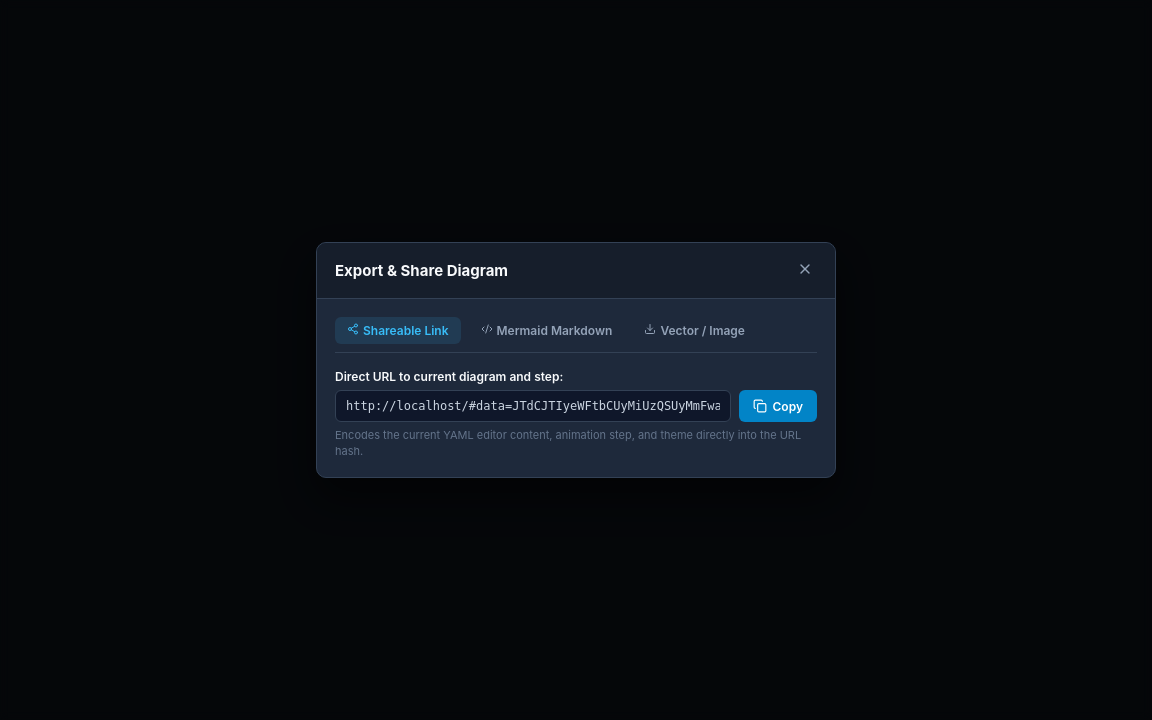
Test: ExportModal › switches to Mermaid tab and Vector tab with ARIA tablist standards
expect the element named "export formats" is shown: met, box [335,317,817,353]
expect the panel is shown: met, box [335,369,817,459]
Click the tab "Mermaid Markdown" at (546, 331), box [468,317,624,344]
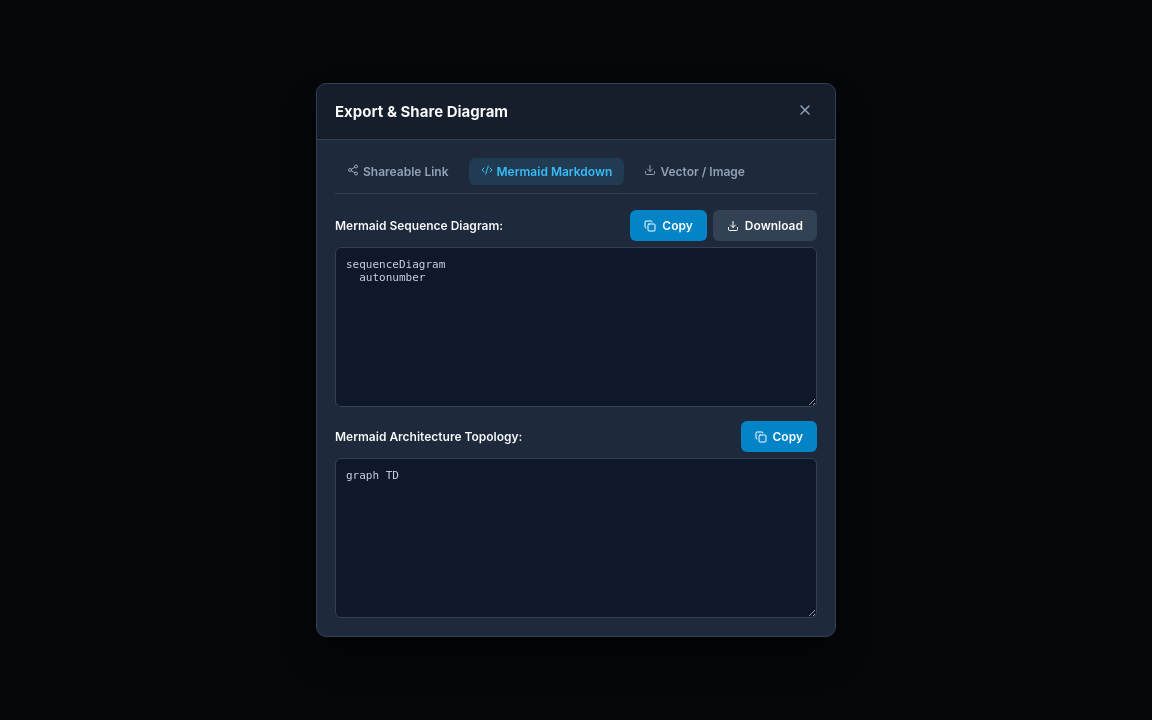
expect the text box with test id "mermaid-sequence-area" is shown: met, box [335,247,817,407]
expect the text box with test id "mermaid-graph-area" is shown: met, box [335,458,817,618]
Click the tab "Vector / Image" at (695, 172), box [632,158,757,185]
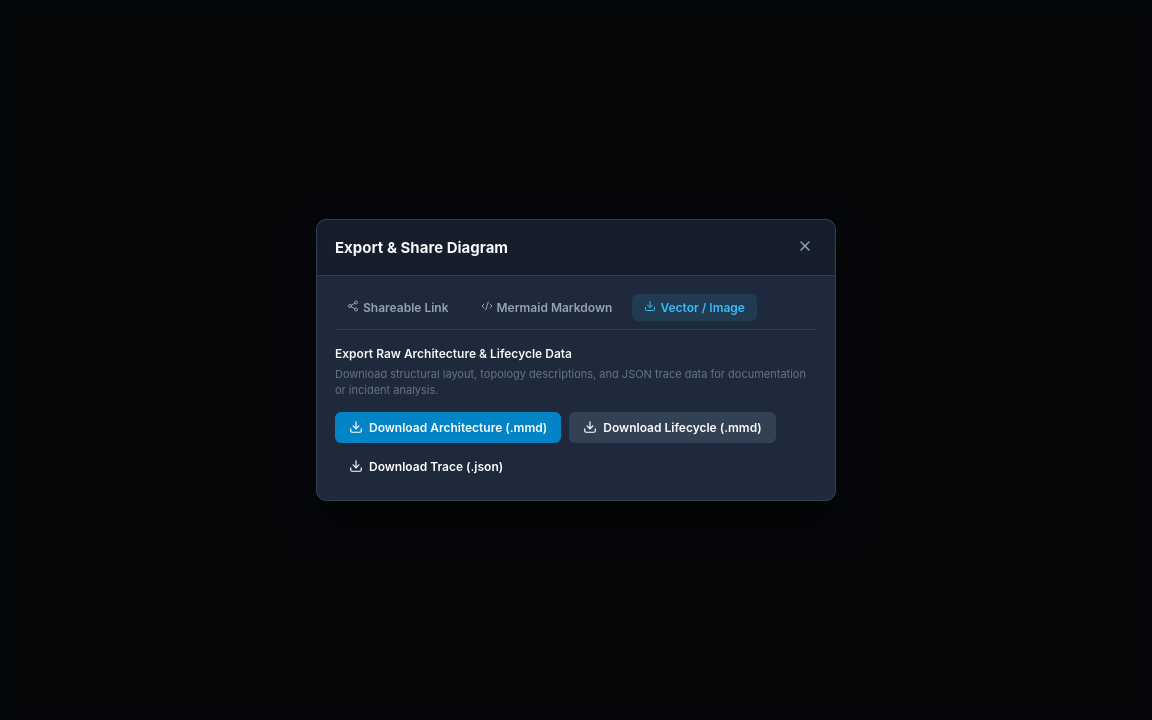
expect the button with test id "download-topology-btn" is shown: met, box [335,412,561,443]
expect the button with test id "download-lifecycle-btn" is shown: met, box [569,412,776,443]
